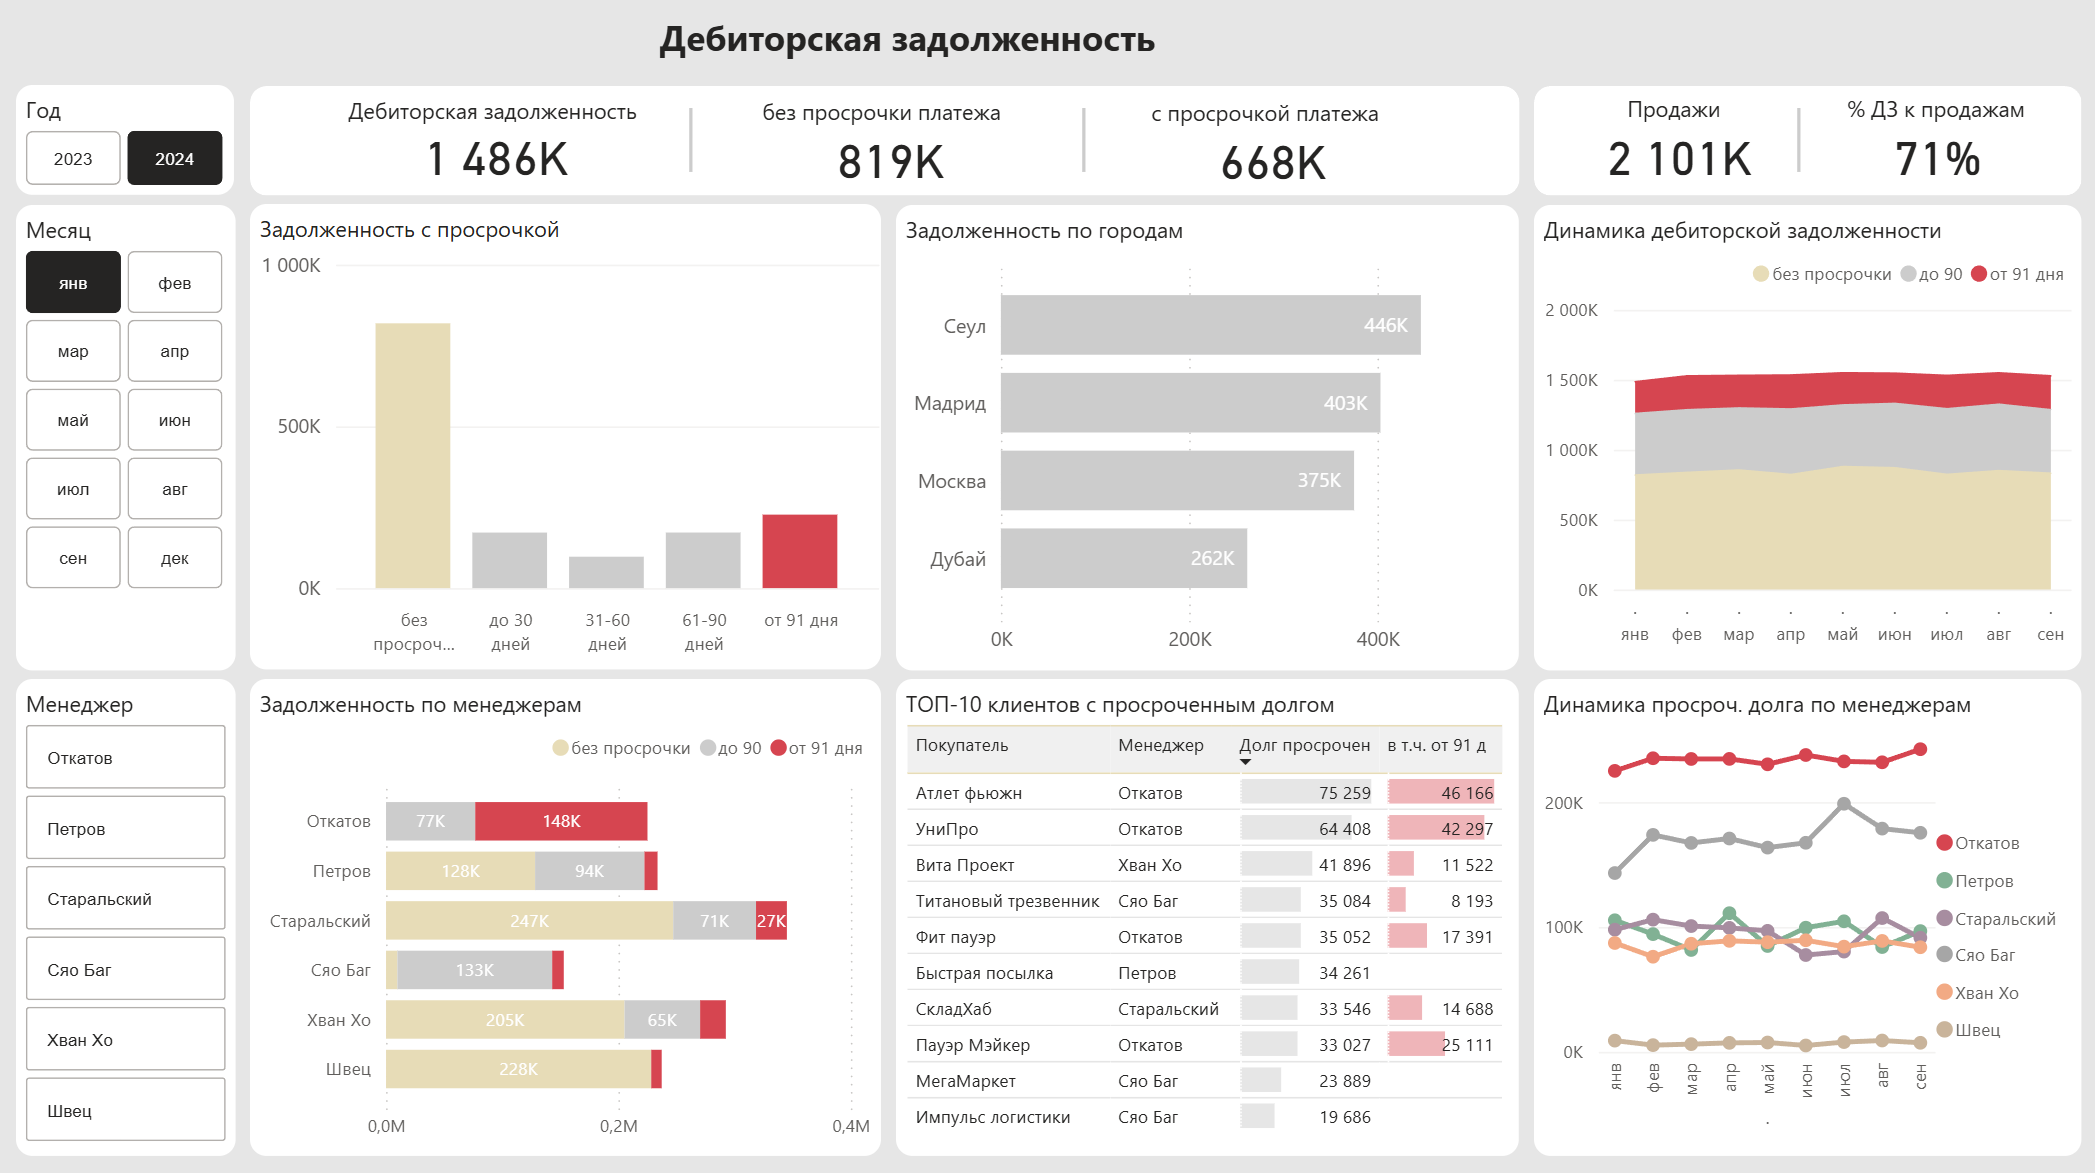

The dashboard page shown, as its layout file describes it:
{"tool":"powerbi","page":{"name":"ДЗ","canvas":[1280,720],"ordinal":0},"visuals":[{"type":"shape","box":[154.1,56.6,774.7,66.8],"z":0},{"type":"advancedSlicerVisual","fields":{"Values":["Менеджер.Менеджер"]},"box":[11.3,418.7,134,290.7],"z":1000},{"type":"advancedSlicerVisual","fields":{"Values":["Месяц.Месяц"]},"box":[11.5,129.4,133.9,284.4],"z":2000},{"type":"advancedSlicerVisual","fields":{"Values":["Год.Год"]},"box":[11.5,56.3,133.5,67.1],"z":3000},{"type":"barChart","title":"Задолженность по менеджерам","fields":{"Category":["ДЗ.Менеджер"],"Series":["Таблица видов ДЗ.Вид ДЗ"],"Y":["Measure.Сумма ДЗ для графика"]},"box":[154.1,418.7,384.6,291.2],"z":4000},{"type":"card","fields":{"Values":["Measure.AR_Total"]},"box":[248.2,80.8,112.6,36.1],"z":5000,"group":"g2"},{"type":"clusteredColumnChart","title":"Задолженность с просрочкой","fields":{"Y":["Measure.Сумма ДЗ для графика"],"Category":["Таблица видов ДЗ.Вид ДЗ"]},"box":[154.1,128.9,384.6,284.4],"z":5000},{"type":"card","fields":{"Values":["Measure.AR_Current"]},"box":[489.4,83,112.5,36.1],"z":6000},{"type":"card","fields":{"Values":["Measure.AR_Overdue"]},"box":[722.6,83.7,112.5,36.1],"z":7000,"group":"g1"},{"type":"clusteredBarChart","title":"Задолженность по городам","fields":{"Category":["ДЗ.Город"],"Y":["Measure.AR_Total"]},"box":[548.4,129.2,380.2,284.3],"z":7000},{"type":"tableEx","title":"ТОП-10 клиентов с просроченным долгом","fields":{"Values":["ДЗ.Покупатель","ДЗ.Менеджер","Measure.AR_Overdue","Measure.AR > 90 days"]},"box":[548.4,418.5,380.2,290.8],"z":8000},{"type":"lineChart","title":"Динамика просроч. долга по менеджерам","fields":{"Series":["Менеджер.Менеджер"],"Category":["Calculation group.Calculation group column","Месяцы для оси.МесяцКратко"],"Y":["Measure.AR_Overdue"]},"box":[938,418.5,334.1,290.8],"z":9000},{"type":"stackedAreaChart","title":"Динамика дебиторской задолженности","fields":{"Category":["Месяцы для оси.МесяцКратко","Calculation group.Calculation group column"],"Series":["Таблица видов ДЗ.Вид ДЗ"],"Y":["Measure.Сумма ДЗ для графика"]},"box":[938,129.2,334.1,284.3],"z":10000},{"type":"shape","box":[937.7,56.6,334.2,66.8],"z":11000},{"type":"textbox","box":[989.5,56.6,75,37.5],"z":12000},{"type":"textbox","box":[1123.8,56.6,120.7,37.5],"z":13000},{"type":"textbox","box":[209.2,57.7,189.8,37.5],"z":13000,"group":"g2"},{"type":"textbox","box":[461.8,58.4,193,37.5],"z":14000},{"type":"card","fields":{"Values":["Measure.Sales_Total"]},"box":[962.2,81.2,128.9,36.1],"z":15000},{"type":"textbox","box":[699.4,59.2,158.9,37.5],"z":16000,"group":"g1"},{"type":"card","fields":{"Values":["Measure.AR_Sales_Ratio"]},"box":[1119.7,81.2,128.9,36.1],"z":16000},{"type":"group","id":"g1","title":"Group 1","box":[699.4,59.2,159.5,61.3],"z":17000},{"type":"group","id":"g2","title":"Group 3","box":[209.2,57.7,189.8,59.2],"z":18000},{"type":"textbox","box":[399.1,7.3,313,40.9],"z":19000},{"type":"shape","box":[374.1,70.5,98.7,39.1],"z":20000},{"type":"shape","box":[613.7,70.5,98.7,39.1],"z":21000},{"type":"shape","box":[1050,70.5,98.7,39.1],"z":22000}]}

Visuals, with their boxes in screenshot pixels (x1, y1, x2, y2), scaled from the page's 1280x720 canvas onto the 2095x1173 screenshot:
shape: l=252, t=92, r=1520, b=201
advancedSlicerVisual - Менеджер.Менеджер: l=18, t=682, r=238, b=1156
advancedSlicerVisual - Месяц.Месяц: l=19, t=211, r=238, b=674
advancedSlicerVisual - Год.Год: l=19, t=92, r=237, b=201
"Задолженность по менеджерам" barChart: l=252, t=682, r=882, b=1157
card - Measure.AR_Total: l=406, t=132, r=591, b=190
"Задолженность с просрочкой" clusteredColumnChart: l=252, t=210, r=882, b=673
card - Measure.AR_Current: l=801, t=135, r=985, b=194
card - Measure.AR_Overdue: l=1183, t=136, r=1367, b=195
"Задолженность по городам" clusteredBarChart: l=898, t=210, r=1520, b=674
"ТОП-10 клиентов с просроченным долгом" tableEx: l=898, t=682, r=1520, b=1156
"Динамика просроч. долга по менеджерам" lineChart: l=1535, t=682, r=2082, b=1156
"Динамика дебиторской задолженности" stackedAreaChart: l=1535, t=210, r=2082, b=674
shape: l=1535, t=92, r=2082, b=201
textbox: l=1620, t=92, r=1742, b=153
textbox: l=1839, t=92, r=2037, b=153
textbox: l=342, t=94, r=653, b=155
textbox: l=756, t=95, r=1072, b=156
card - Measure.Sales_Total: l=1575, t=132, r=1786, b=191
textbox: l=1145, t=96, r=1405, b=158
card - Measure.AR_Sales_Ratio: l=1833, t=132, r=2044, b=191
"Group 1" group: l=1145, t=96, r=1406, b=196
"Group 3" group: l=342, t=94, r=653, b=190
textbox: l=653, t=12, r=1166, b=79
shape: l=612, t=115, r=774, b=179
shape: l=1004, t=115, r=1166, b=179
shape: l=1719, t=115, r=1880, b=179
